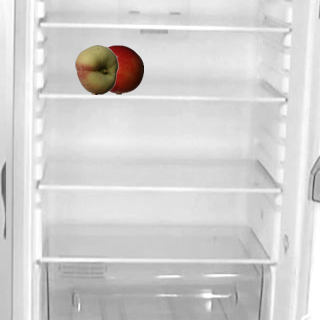Apple Braeburn: (93, 44, 143, 94)
Peach Flat: (71, 44, 121, 94)
